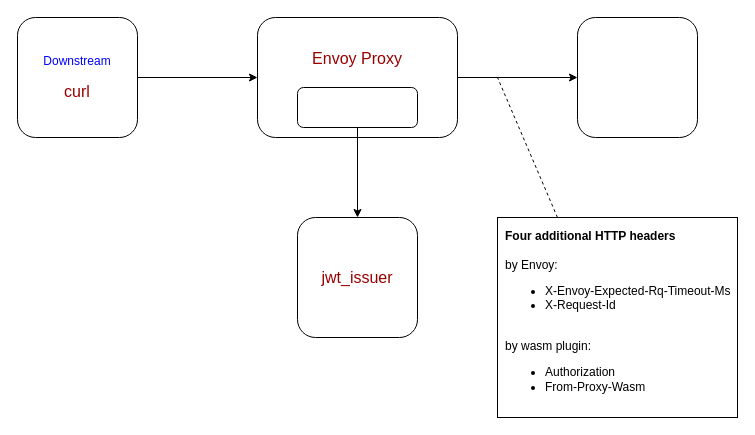
Some shapes in this 755 by 435 pixel diagram are drawn without their labels. The shapes that lost their labels are listed below. From the top down, each one's centre as x and y in pixels, then its label:
At point 637,77: "Upstream httpbin".
At point 357,107: "wasm add_auth_header".
